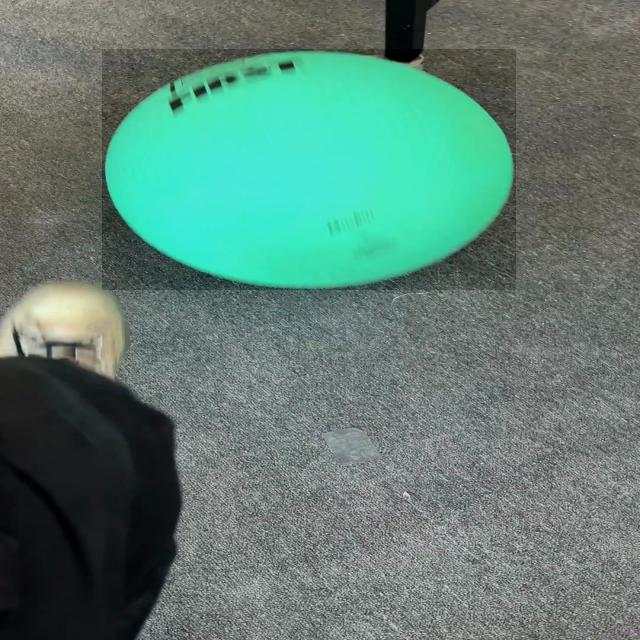Algae: (102, 49, 516, 290)
